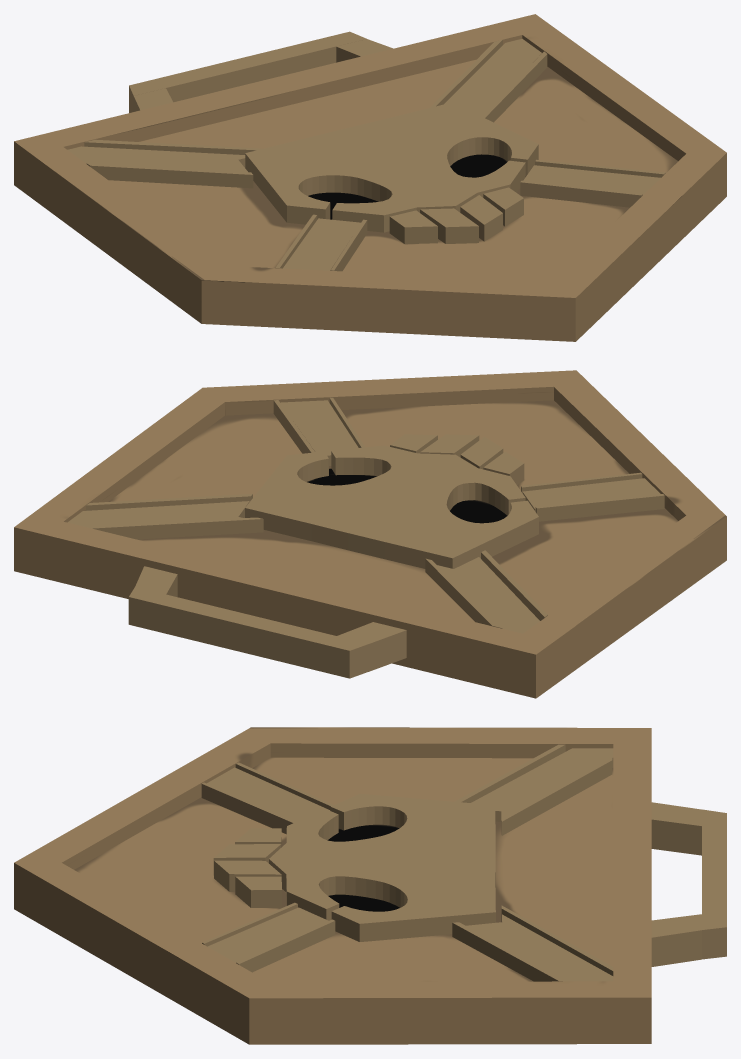
The model's file is bleach_substitute_shinigami_badge.glb.
The picture shows the model from 3 angles, top to bottom: view 1: azimuth 30°, elevation 25°; view 2: azimuth 150°, elevation 25°; view 3: azimuth 270°, elevation 25°; orthographic projection. The views are drawn at different scales.
Parts seen in each view (by area): view 1: Cube_0, Cube.019_17, Cube.001_18, Cube.010_8, Cube.009_7, Cube.013_11, Cube.007_5, Cube.008_6, Cube.017_16, Cube.002_1, Cube.006_9, Cube.004_2 (+6 smaller); view 2: Cube_0, Cube.019_17, Cube.001_18, Cube.009_7, Cube.010_8, Cube.011_10, Cube.008_6, Cube.007_5, Cube.015_14, Cube.012_12, Cube.006_9, Cube.013_11 (+6 smaller); view 3: Cube_0, Cube.019_17, Cube.001_18, Cube.009_7, Cube.010_8, Cube.008_6, Cube.007_5, Cube.006_9, Cube.012_12, Cube.014_13, Cube.016_15, Cube.005_3 (+7 smaller).
Boxes of the visible parts, <box> form: Cube_0: <box>14,14,726,341</box>; Cube.019_17: <box>245,102,538,232</box>; Cube.001_18: <box>129,31,392,112</box>; Cube.010_8: <box>444,38,541,115</box>; Cube.009_7: <box>67,146,247,172</box>; Cube.013_11: <box>86,163,253,188</box>; Cube.007_5: <box>283,218,360,270</box>; Cube.008_6: <box>523,165,660,194</box>; Cube.017_16: <box>520,180,642,207</box>; Cube.002_1: <box>420,208,478,243</box>; Cube.006_9: <box>84,139,262,154</box>; Cube.004_2: <box>389,210,437,244</box>; Cube_0: <box>14,370,726,698</box>; Cube.019_17: <box>245,445,538,568</box>; Cube.001_18: <box>128,566,406,678</box>; Cube.009_7: <box>437,557,539,633</box>; Cube.010_8: <box>67,501,249,526</box>; Cube.011_10: <box>83,517,263,539</box>; Cube.008_6: <box>280,400,358,465</box>; Cube.007_5: <box>522,478,660,511</box>; Cube.015_14: <box>535,494,664,521</box>; Cube.012_12: <box>86,493,252,510</box>; Cube.006_9: <box>425,558,502,628</box>; Cube.013_11: <box>481,550,547,620</box>; Cube_0: <box>14,727,651,1044</box>; Cube.019_17: <box>269,793,495,941</box>; Cube.001_18: <box>651,802,726,966</box>; Cube.009_7: <box>471,748,613,829</box>; Cube.010_8: <box>466,914,613,981</box>; Cube.008_6: <box>207,907,328,962</box>; Cube.007_5: <box>207,767,330,821</box>; Cube.006_9: <box>501,755,612,835</box>; Cube.012_12: <box>452,922,565,981</box>; Cube.014_13: <box>236,919,335,972</box>; Cube.016_15: <box>201,782,296,834</box>; Cube.005_3: <box>235,876,281,907</box>.
Size of the model in its own units: 8.01 by 0.6962 by 8.9.
19 materials, 1 textured.
